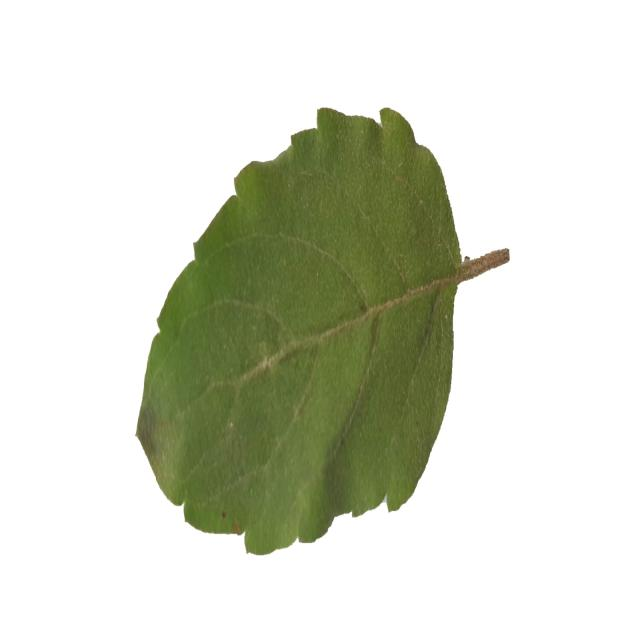tulsi: (134, 104, 507, 557)
